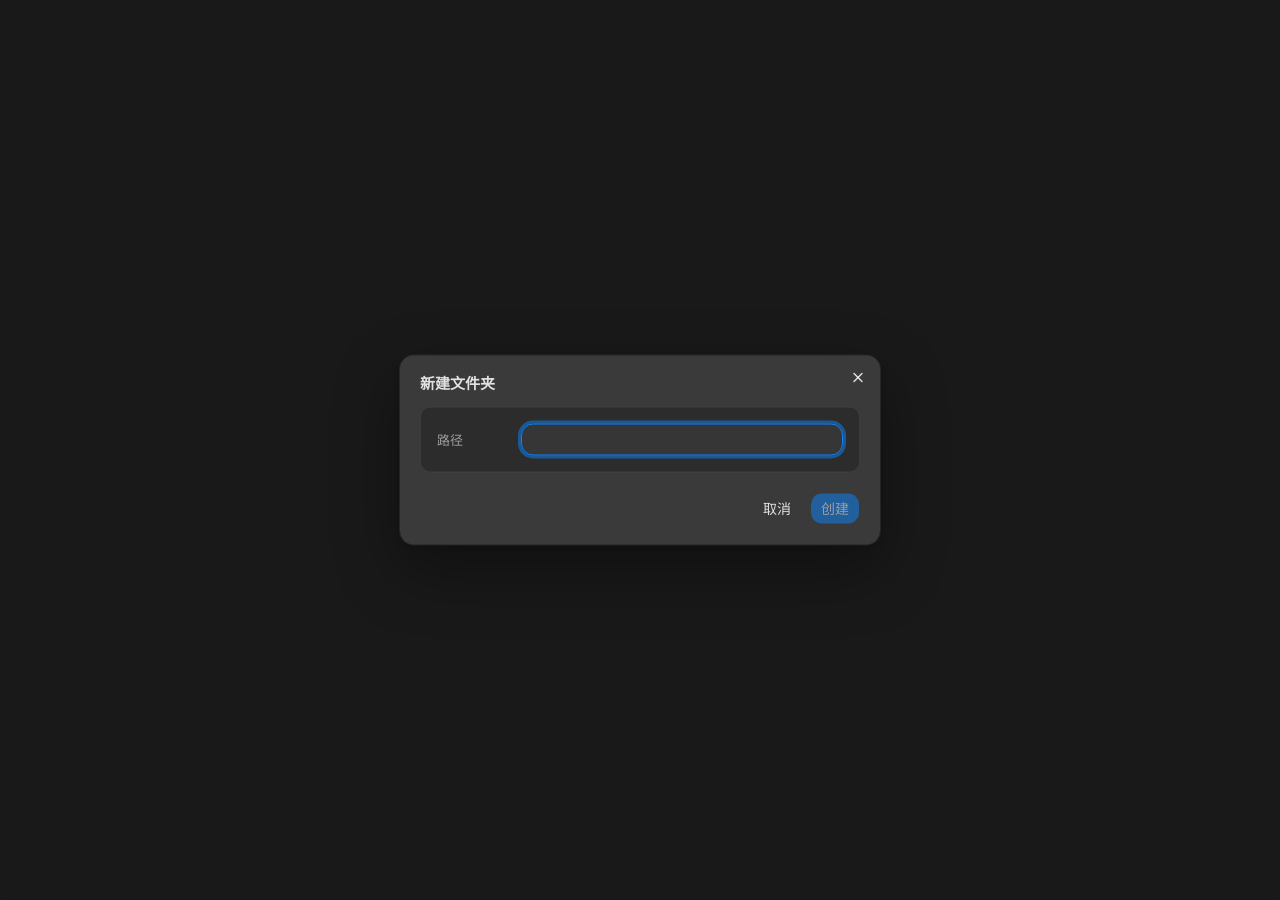
Test: NewFolderDialog › 填了路径才能创建
expect the button "创建" is disabled: met, box x1=810 y1=492 x2=860 y2=524
In the field labelled "路径": [682, 440] box x1=521 y1=424 x2=843 y2=456, type "/tmp/projects/demo"
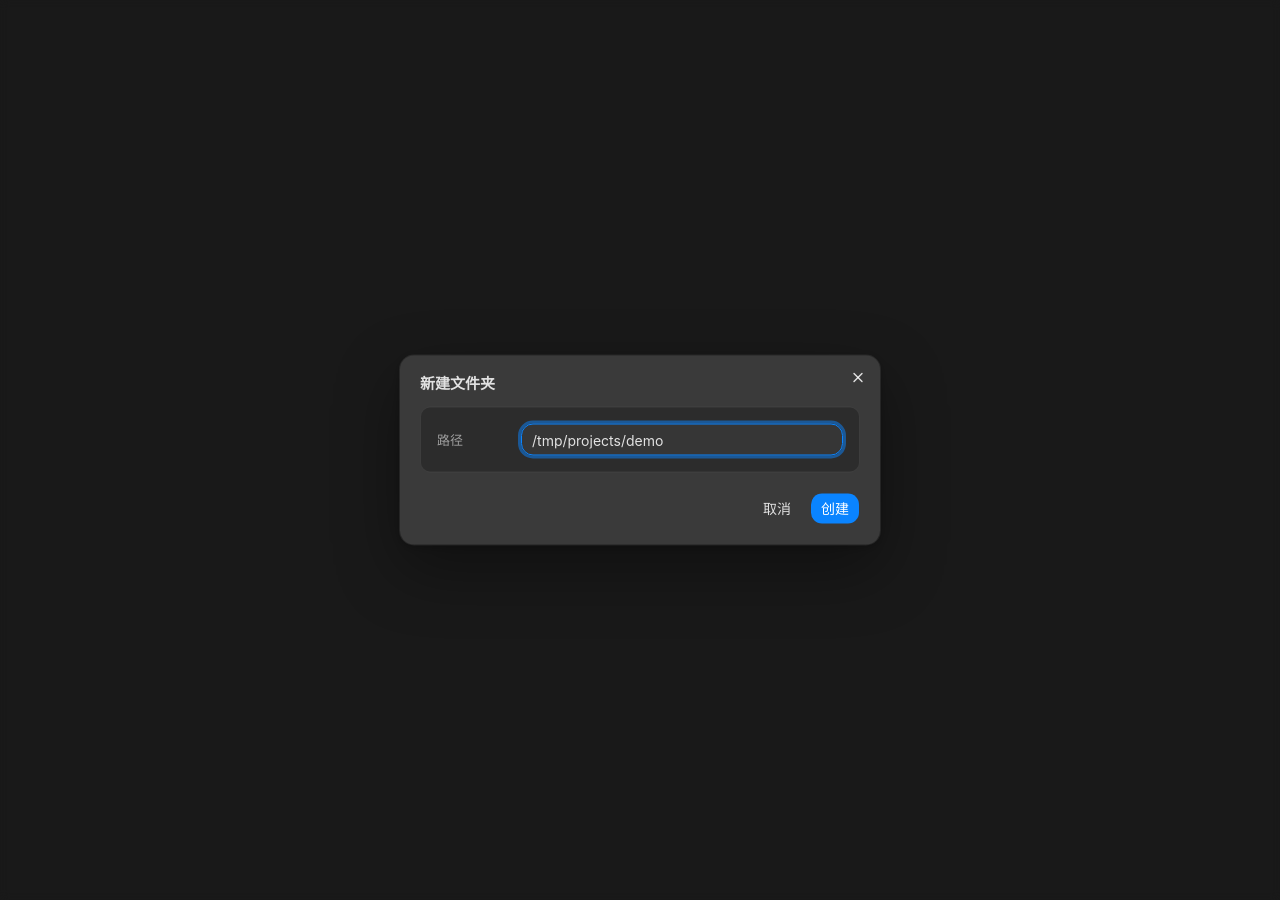
expect the button "创建" is enabled: met, box x1=810 y1=492 x2=860 y2=524
